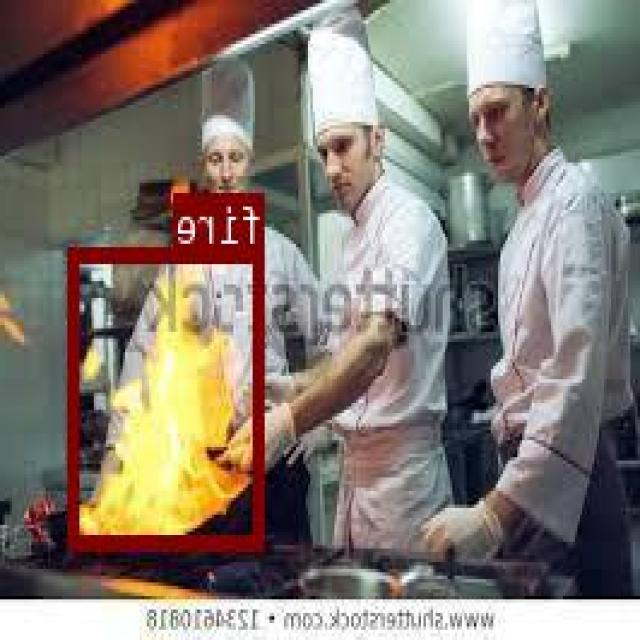fire: (71, 244, 265, 546)
